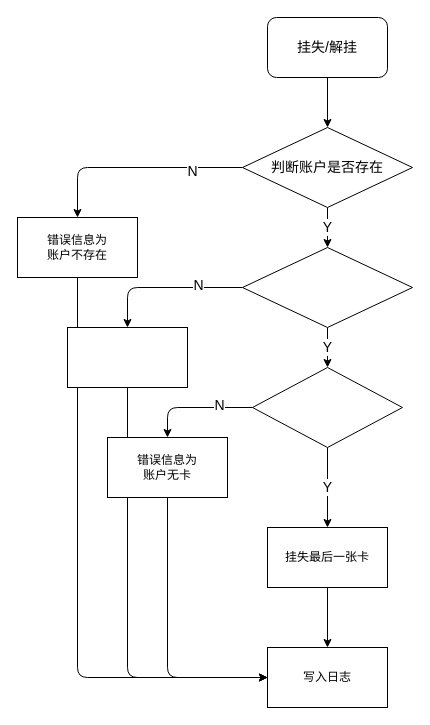
Some shapes in this 430 by 725 pixel diagram are drawn without their labels. The shapes that lost their labels are listed below. From the top down, each one's centre as x and y in pixels, then its label:
pixel 327 287: 判断账户是否有效
pixel 127 357: 错误信息为 账户失效
pixel 327 407: 判断该卡是否有卡
